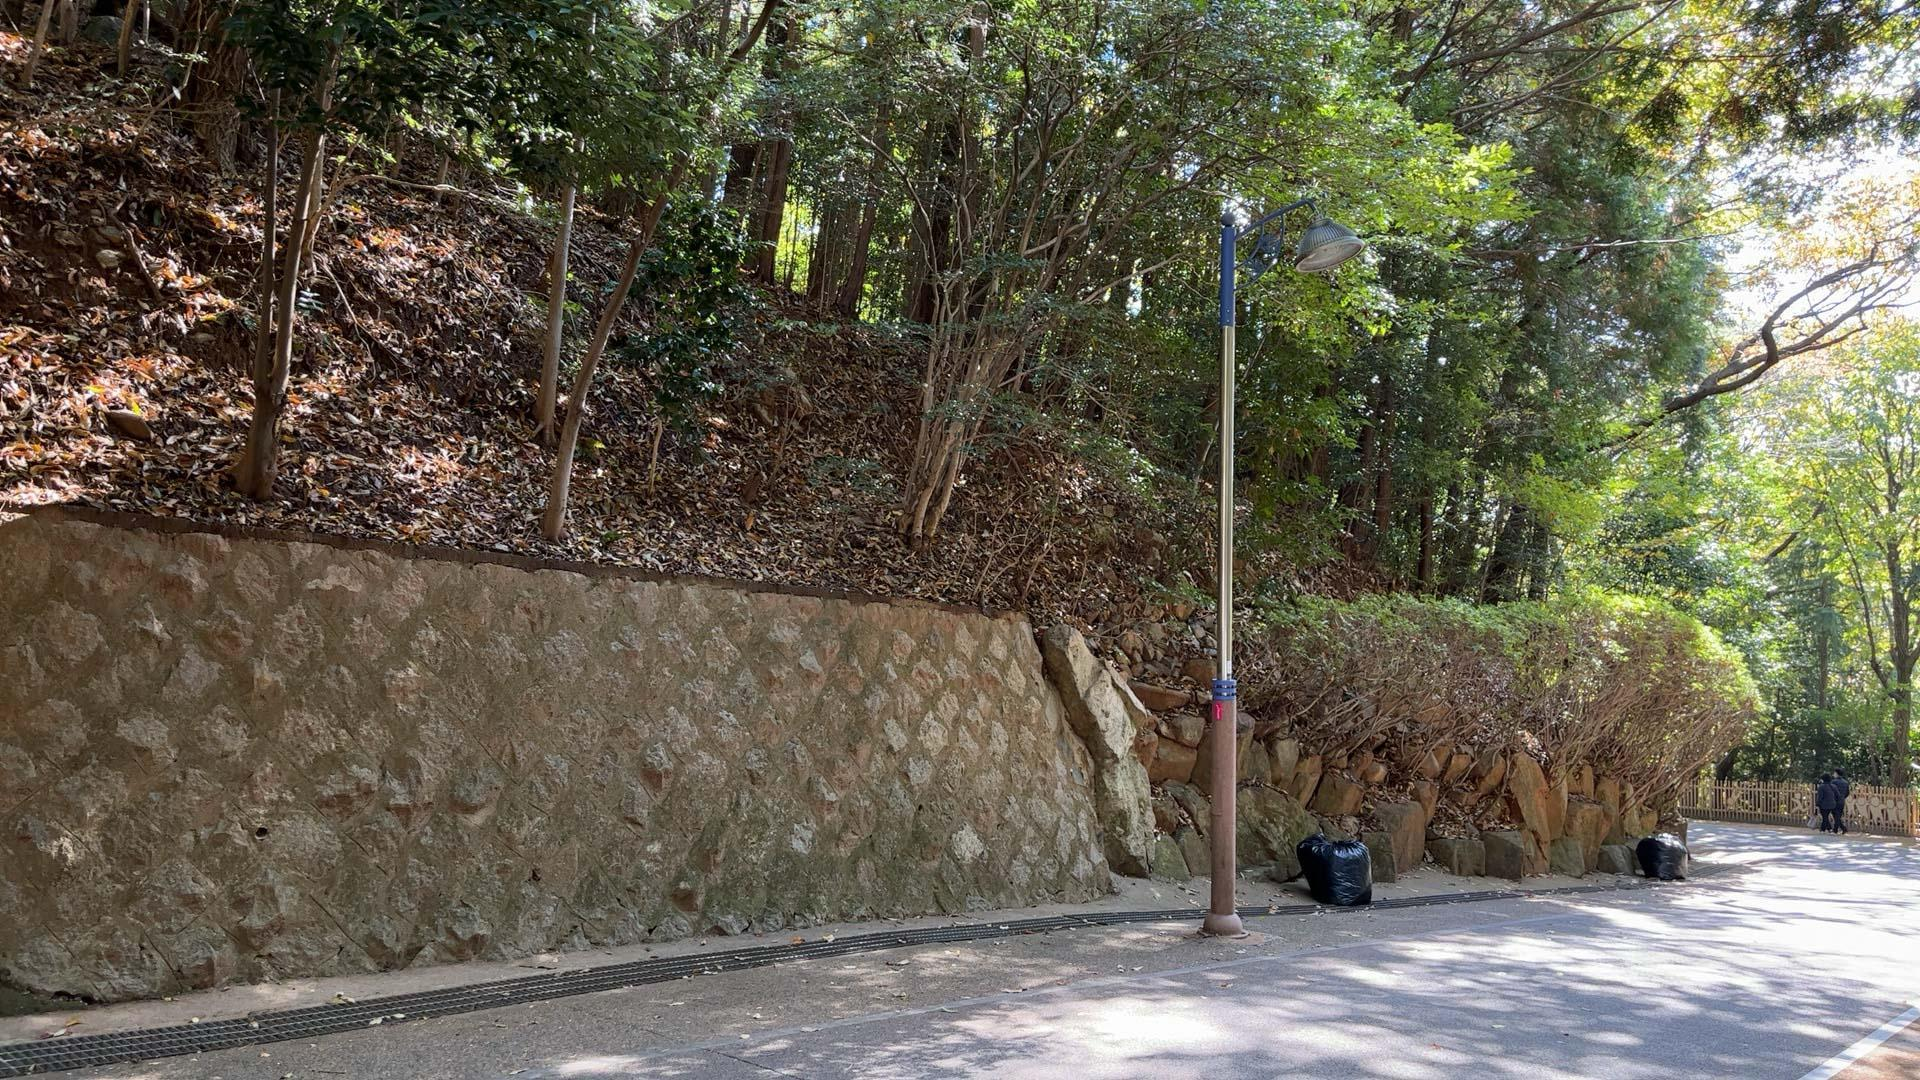black_bag: (1295, 828, 1378, 909), (1632, 825, 1697, 882)
